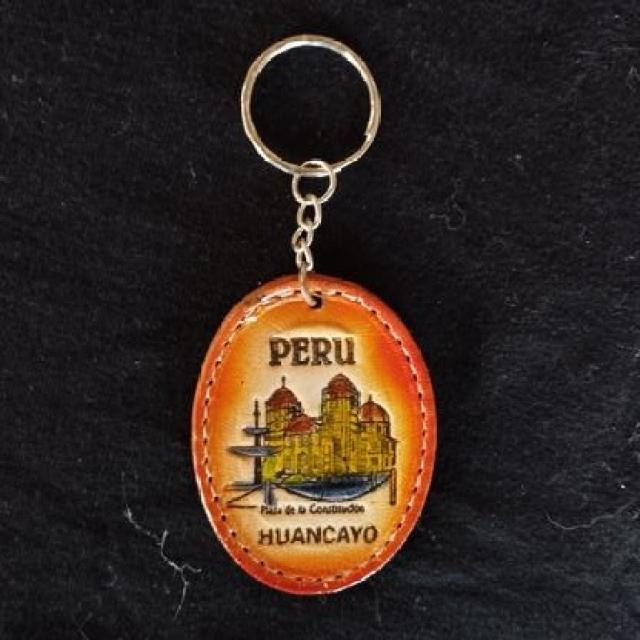Llavero: (190, 271, 438, 595)
